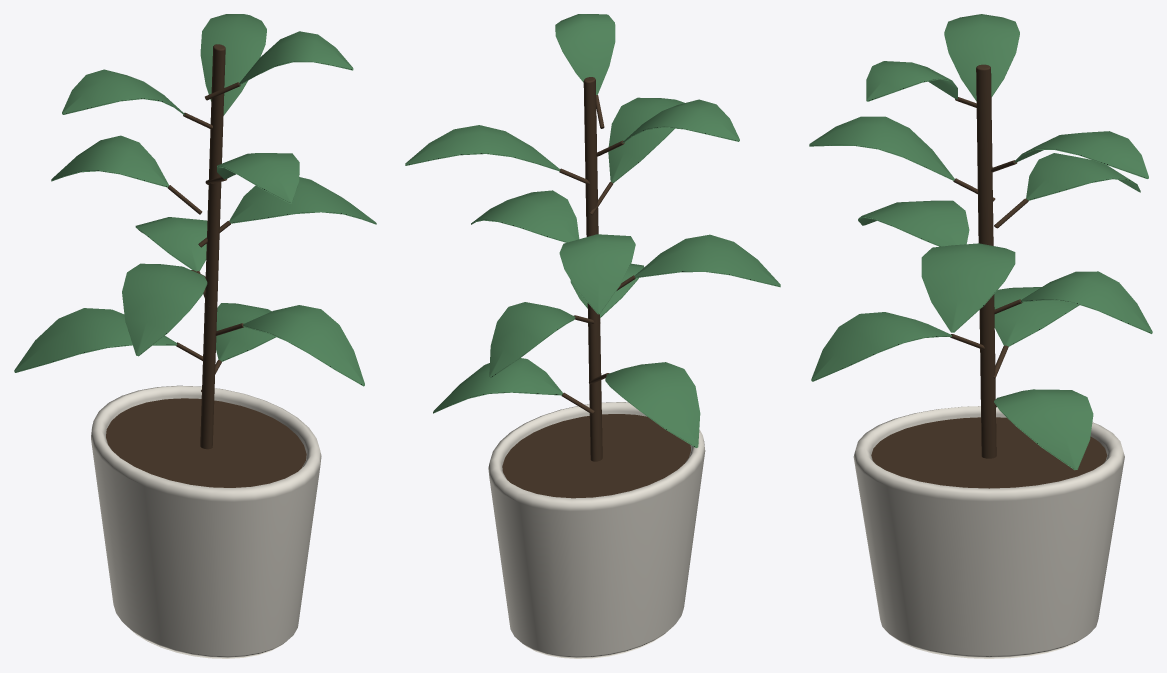
The model's file is plant.glb.
The picture shows the model from 3 angles, left to right: view 1: azimuth 30°, elevation 25°; view 2: azimuth 150°, elevation 25°; view 3: azimuth 270°, elevation 25°; orthographic projection. The views are drawn at different scales.
Visible parts, largest first — view 1: SM_plant; view 2: SM_plant; view 3: SM_plant.
Part boxes in pixels (left/top/right/bottom): SM_plant: left=14, top=14, right=376, bottom=658; SM_plant: left=405, top=14, right=780, bottom=658; SM_plant: left=809, top=14, right=1152, bottom=658.
Bounding box in the file's own units: 0.45 × 0.85 × 0.45.
